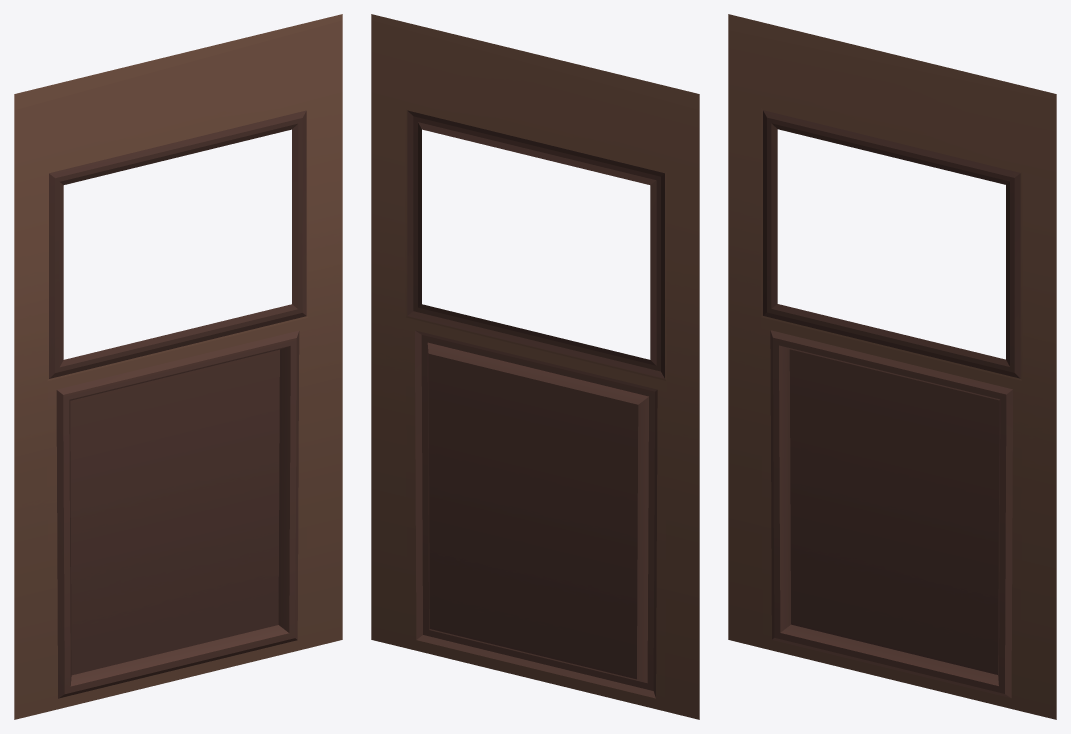
The model's file is porte_montants.fbx.
The picture shows the model from 3 angles, left to right: view 1: azimuth 30°, elevation 25°; view 2: azimuth 150°, elevation 25°; view 3: azimuth 330°, elevation 25°; orthographic projection.
Visible parts, largest first — view 1: pPlane5; view 2: pPlane5; view 3: pPlane5.
Part boxes in pixels (bbox=[...]): pPlane5: bbox=[14, 14, 342, 719]; pPlane5: bbox=[371, 14, 699, 719]; pPlane5: bbox=[728, 14, 1056, 719].
Size of the model in its own units: 152 by 277 by 3.96.
